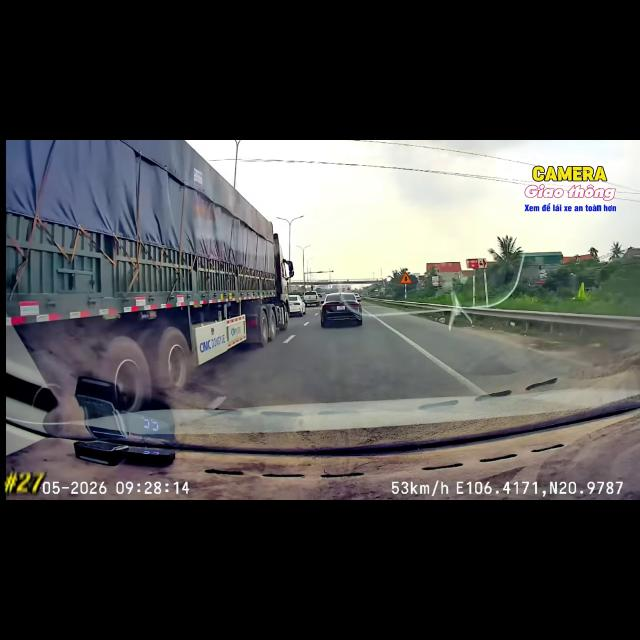car: (321, 293, 362, 327), (289, 295, 305, 316), (303, 291, 320, 305), (354, 293, 360, 301)
truck: (6, 140, 293, 411)
